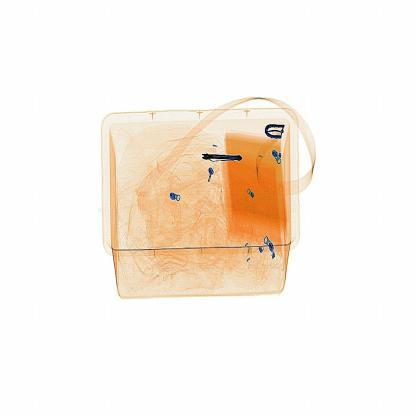knife: (201, 141, 245, 168)
